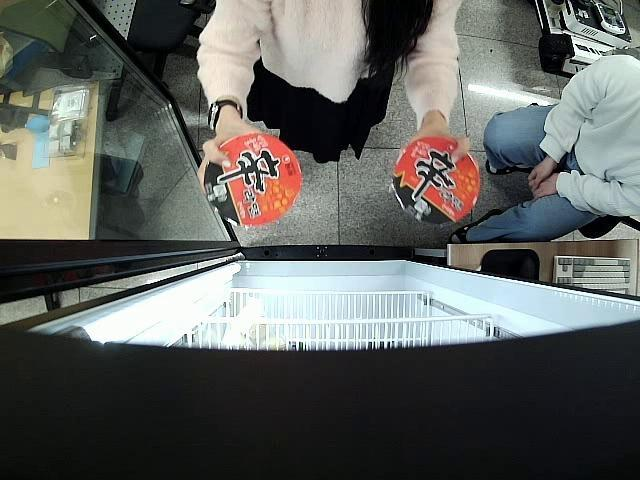01_ShinRamen_L: (200, 131, 301, 228), (392, 136, 481, 226)
